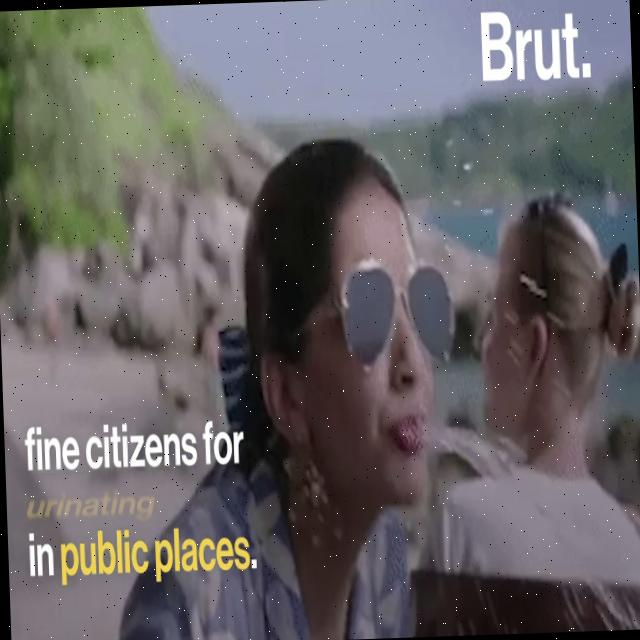spit: (329, 236, 605, 614)
